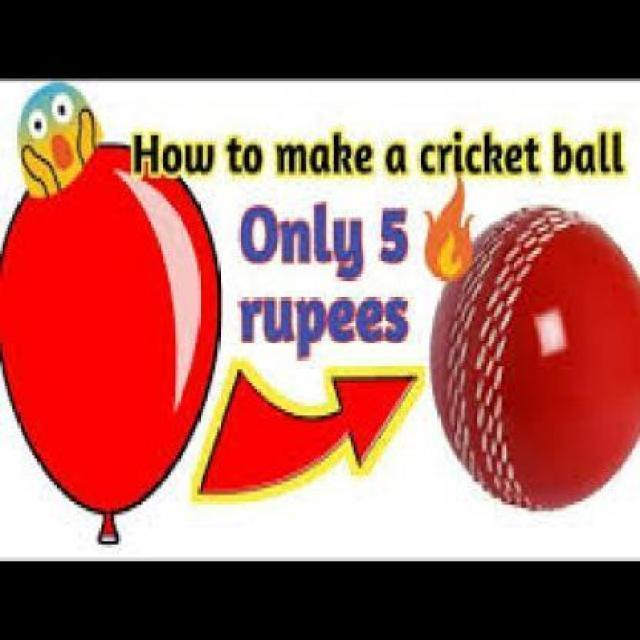-: (423, 190, 640, 507)
